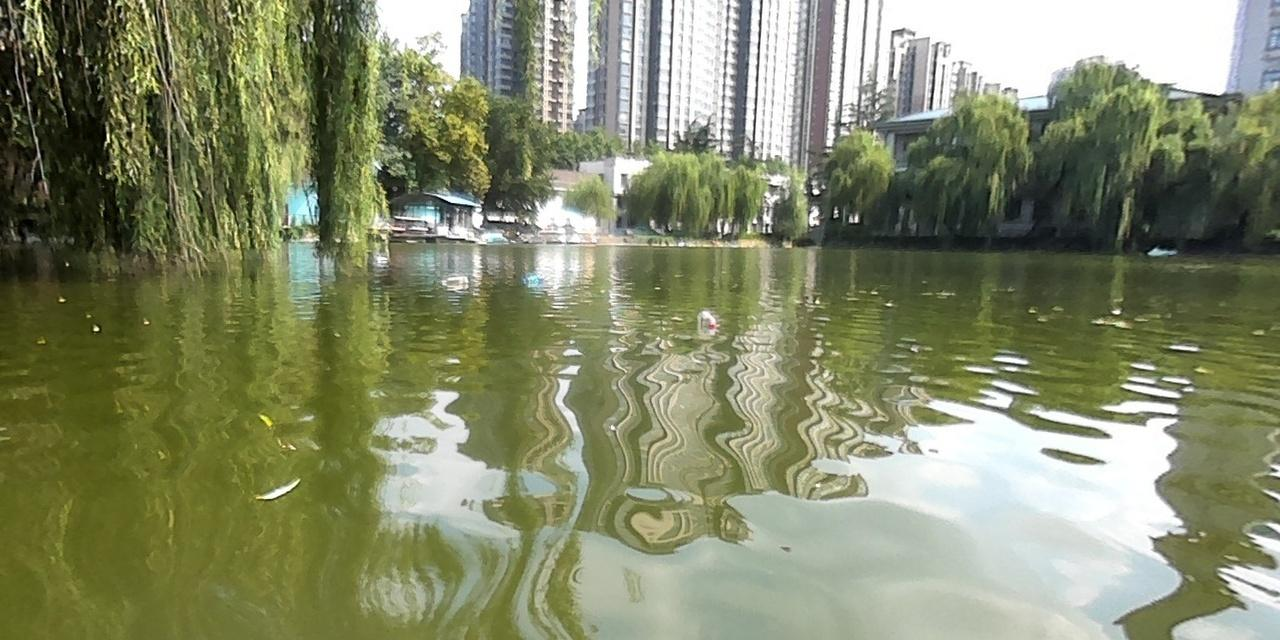bottle: (695, 309, 713, 327), (440, 274, 467, 286)
